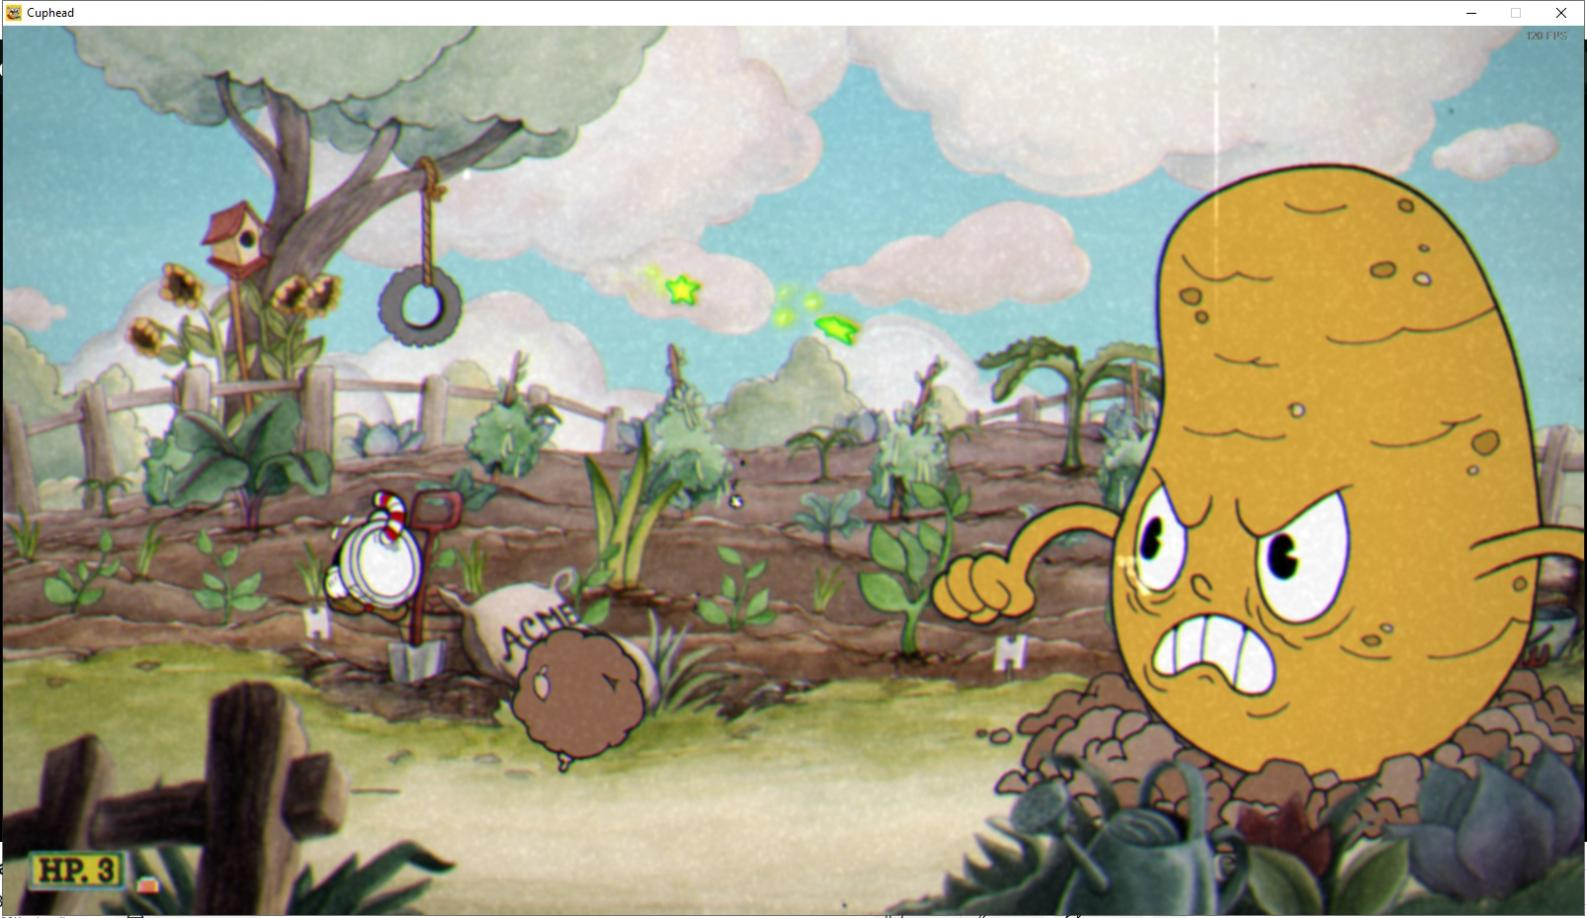dirt: (496, 611, 664, 774)
hp3: (90, 852, 124, 890)
player: (301, 499, 434, 616)
potato_boss: (1099, 163, 1545, 763)
